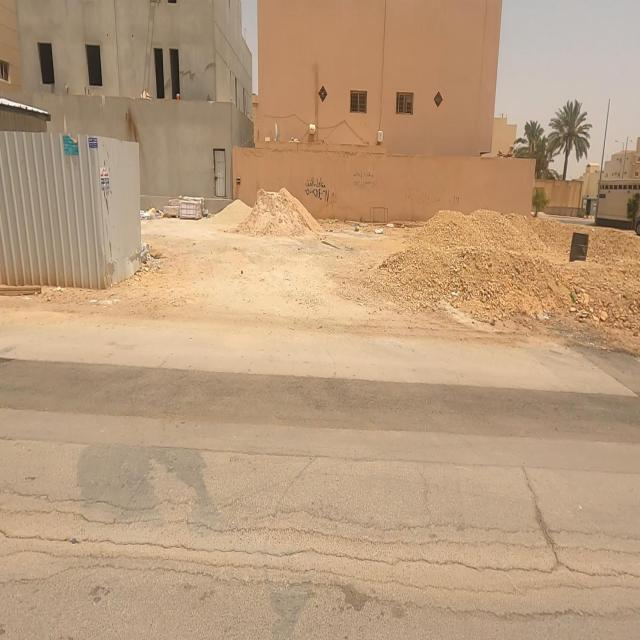Graffiti: (306, 175, 332, 204), (354, 172, 379, 191)
